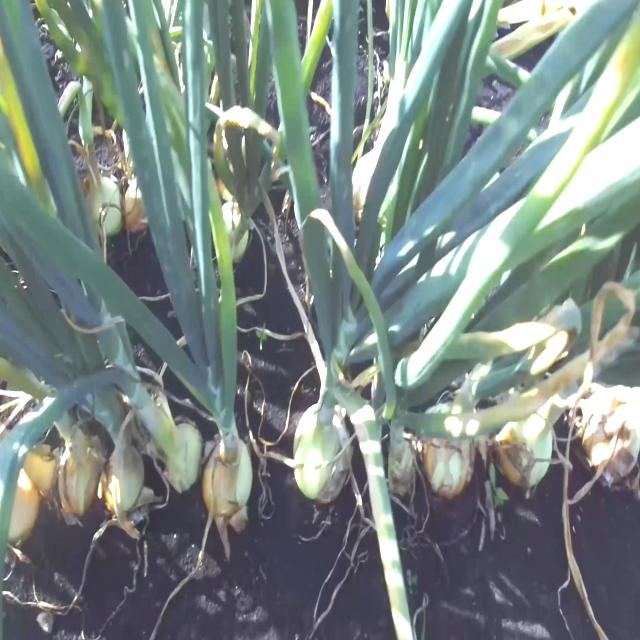onion: (583, 383, 640, 489), (296, 406, 351, 499), (424, 402, 475, 497), (497, 405, 551, 489), (205, 437, 253, 518), (0, 450, 39, 540), (54, 435, 98, 514), (159, 414, 201, 495), (103, 445, 143, 513), (82, 172, 121, 241), (383, 427, 422, 495), (214, 202, 249, 262)
